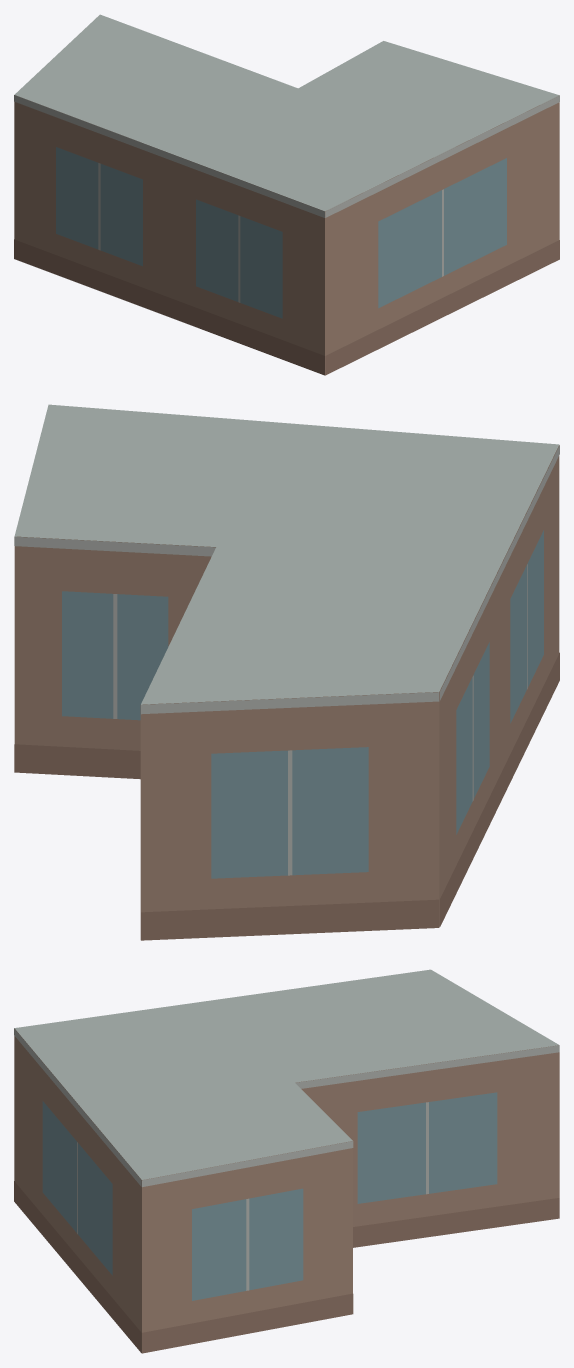
File: survey-upis-32751341.glb
The picture shows the model from 3 angles, top to bottom: view 1: azimuth 30°, elevation 25°; view 2: azimuth 150°, elevation 25°; view 3: azimuth 270°, elevation 25°; orthographic projection. The views are drawn at different scales.
Visible parts, largest first — view 1: survey-upis-32751341.tmp; view 2: survey-upis-32751341.tmp; view 3: survey-upis-32751341.tmp.
Boxes of the visible parts, x1,y1,x2,y2 form: survey-upis-32751341.tmp: (14, 14, 559, 375); survey-upis-32751341.tmp: (14, 404, 559, 940); survey-upis-32751341.tmp: (14, 969, 559, 1353).
Size of the model in its own units: 7.96 by 3.05 by 8.71.
